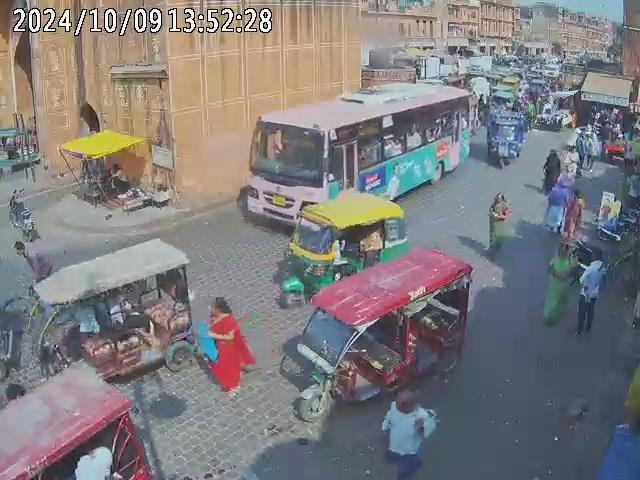auto: (290, 250, 484, 432), (8, 233, 192, 383), (0, 358, 175, 475), (282, 190, 405, 301), (485, 107, 529, 167)
bus: (236, 79, 475, 226)
person: (202, 297, 258, 400), (387, 389, 442, 480), (572, 251, 611, 336), (546, 244, 576, 327), (569, 125, 597, 173), (489, 188, 509, 248)
